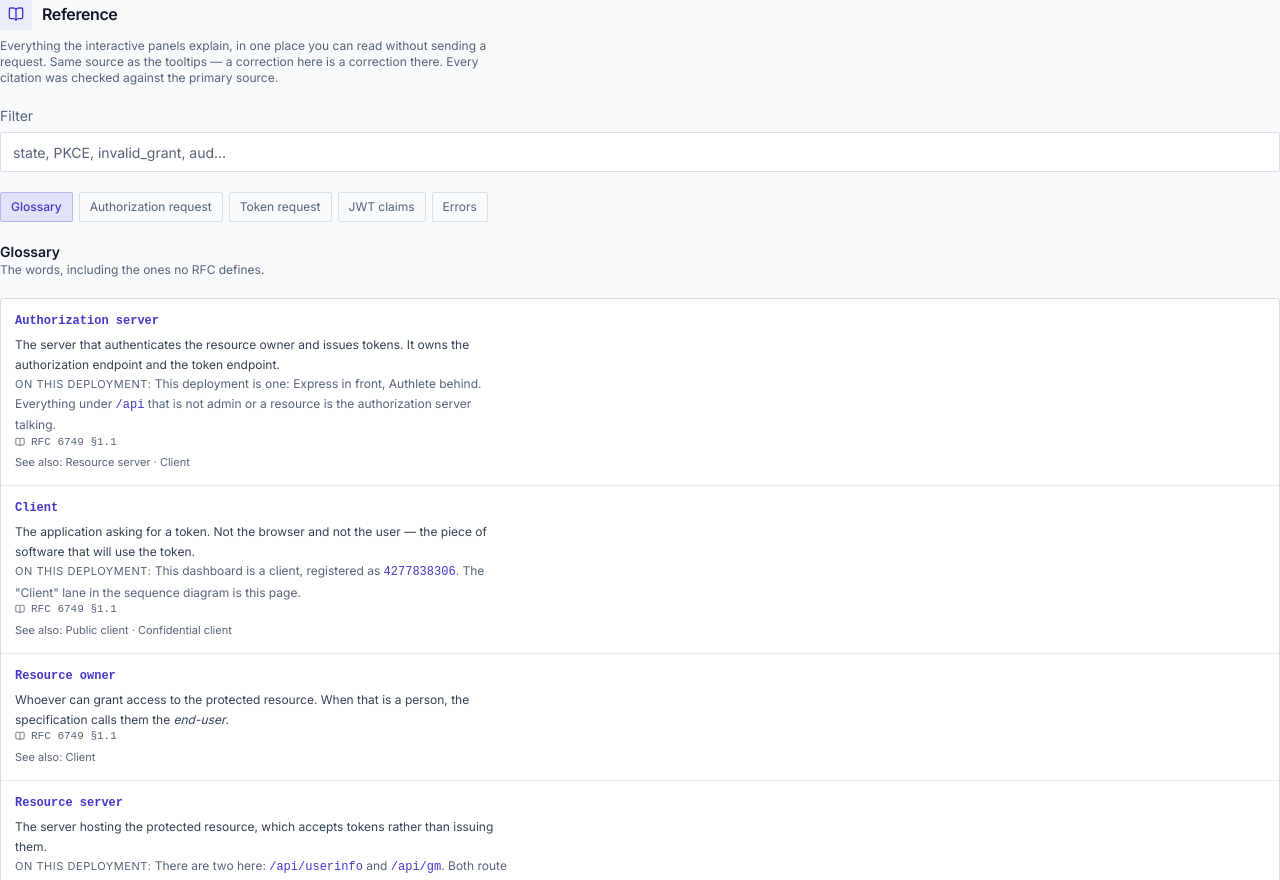
Test case: ReferencePage › reads the authorization parameters from the same module the builder uses
Click the button "Authorization request": (151, 207) [79,192,223,222]
(page scrolled)
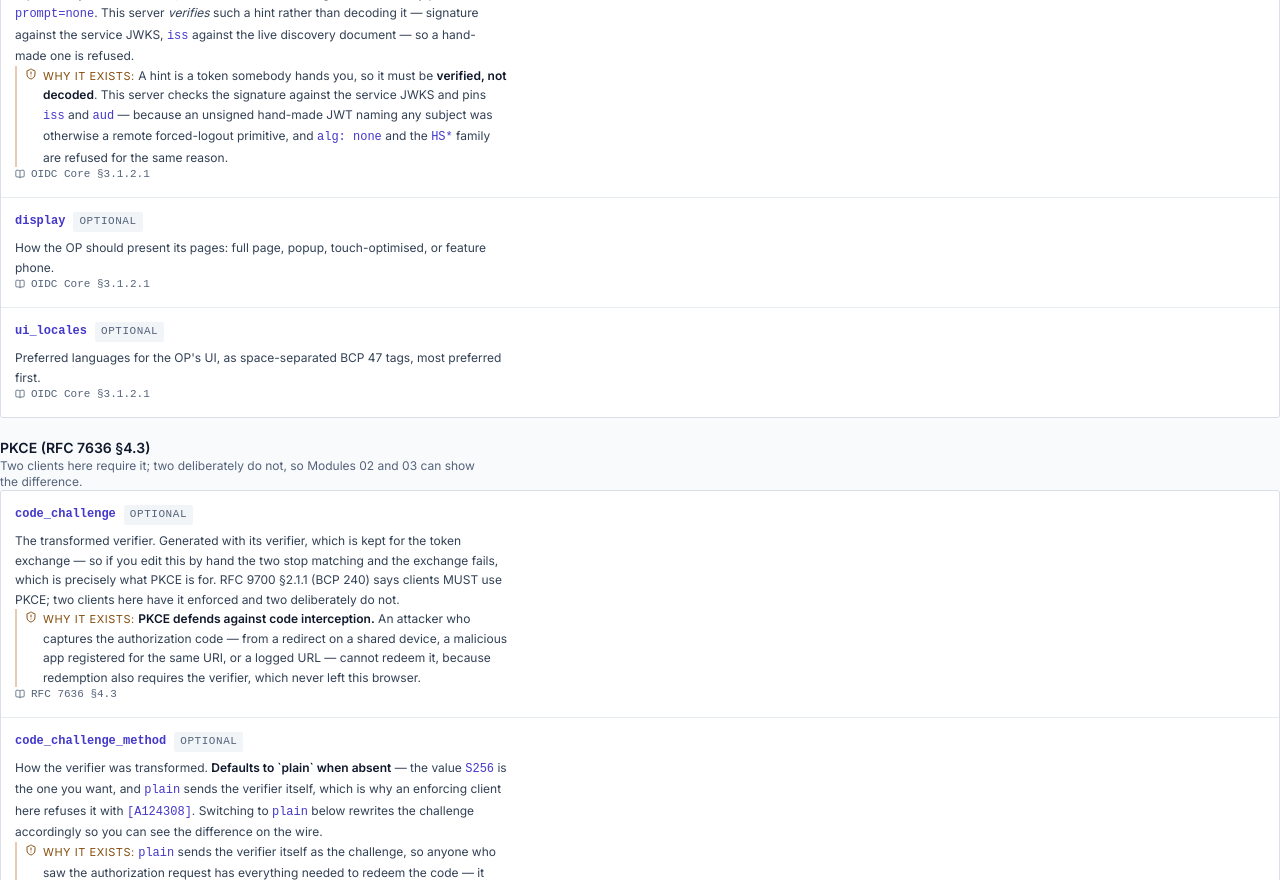
Expected: the heading "code_challenge" is shown, [15,506,116,522]
Expected: the heading "PKCE (RFC 7636 §4.3)" is shown, [0,439,150,456]
